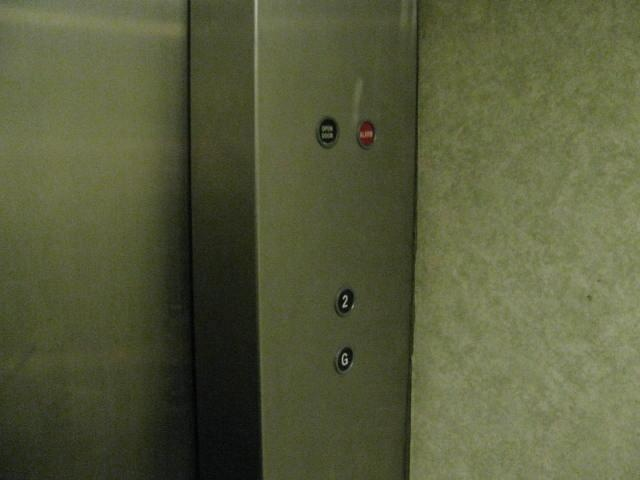2: (334, 285, 358, 317)
G: (334, 343, 357, 375)
text_blur: (314, 116, 342, 148), (356, 119, 377, 151)
